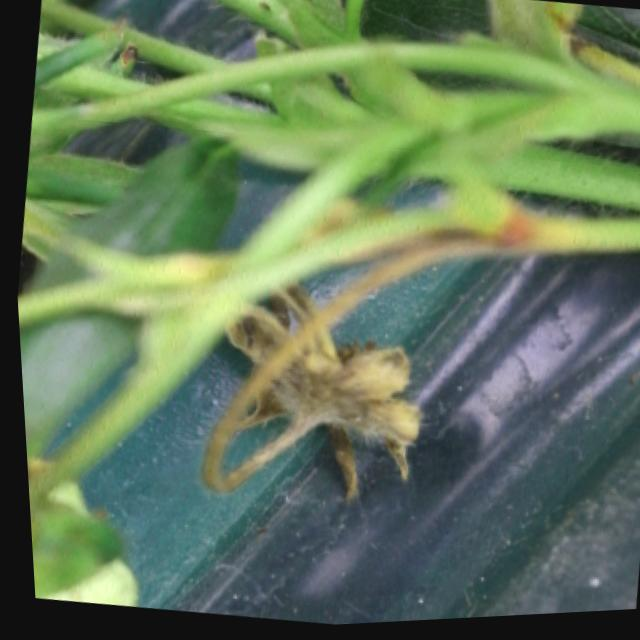Gray Mold: (193, 284, 417, 508)
